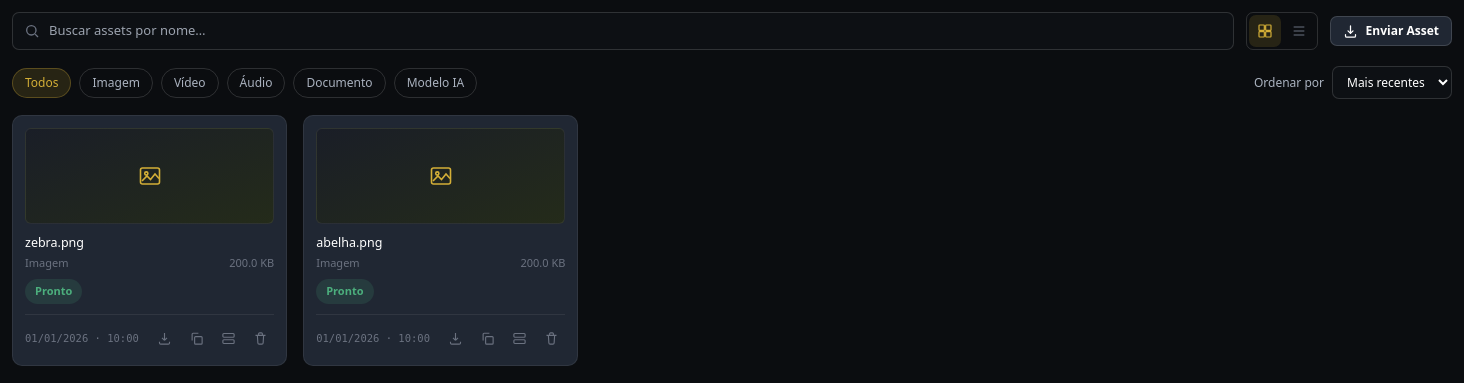
Test: AssetLibrary › ordena por nome
Expected: the text "zebra.png" is shown, [25,234,84,251]
Select "Nome" in the dropdown labelled "Ordenar por" at (1392, 82), box [1332,66,1452,99]
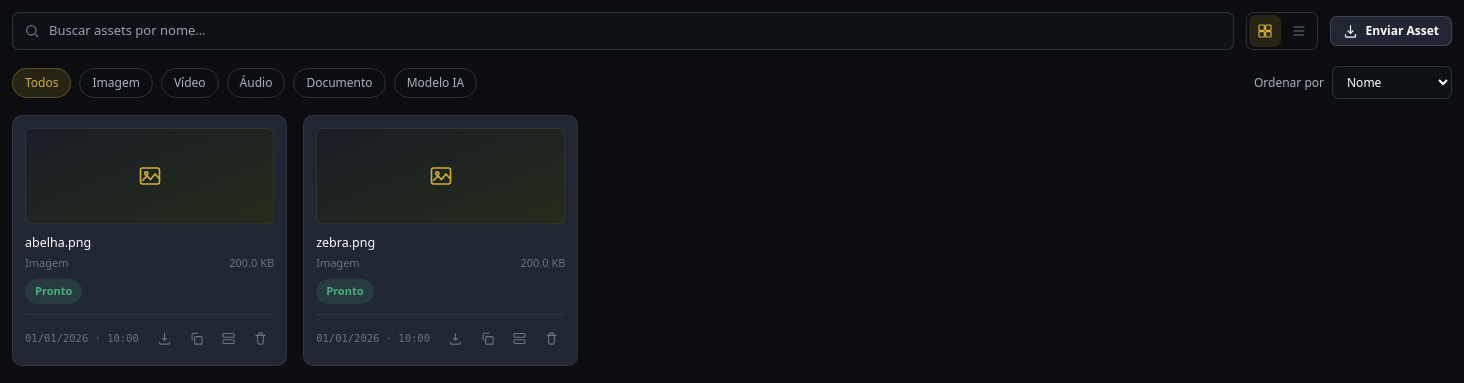
Expected: the elements ".png" read "abelha.png", "zebra.png", in this order, [25,234,91,251]; [316,234,375,251]
